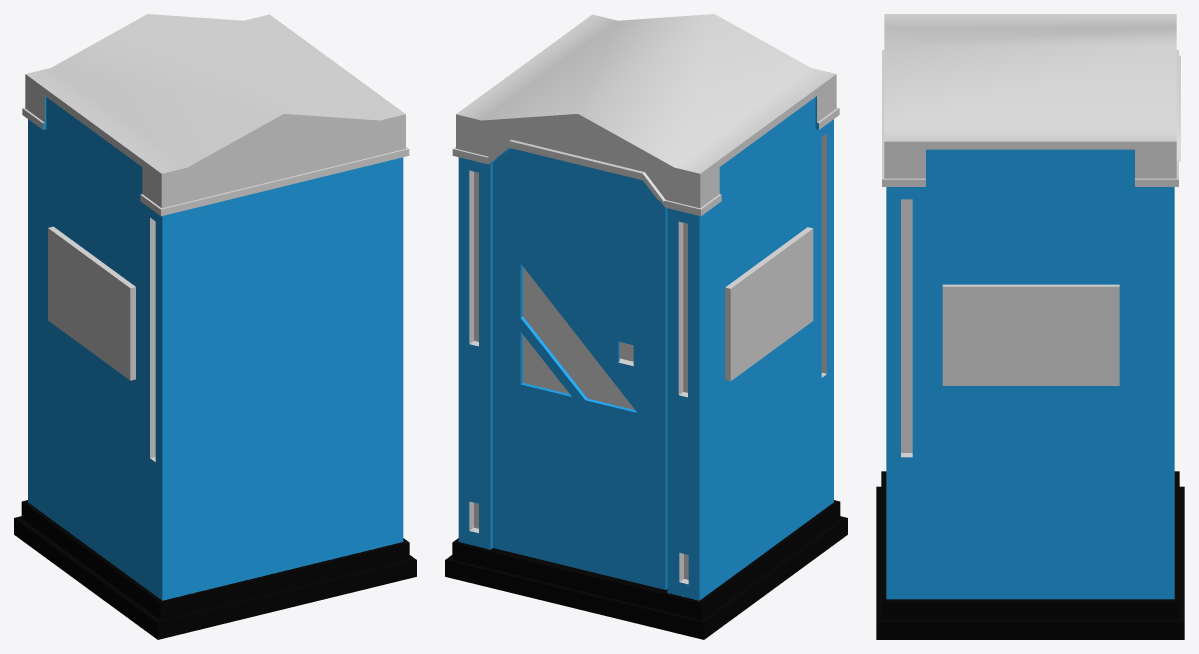
Rendered from portaPotty.glb.
The picture shows the model from 3 angles, left to right: view 1: azimuth 30°, elevation 25°; view 2: azimuth 150°, elevation 25°; view 3: azimuth 270°, elevation 25°; orthographic projection. The views are drawn at different scales.
Visible parts, largest first — view 1: sides_wc-blue_0, details_wx-white_0, bottom_wc-black_0; view 2: sides_wc-blue_0, details_wx-white_0, bottom_wc-black_0; view 3: sides_wc-blue_0, details_wx-white_0, bottom_wc-black_0.
Boxes of the visible parts, x1,y1,x2,y2 form: sides_wc-blue_0: (28, 96, 403, 600); details_wx-white_0: (22, 14, 409, 461); bottom_wc-black_0: (14, 500, 416, 639); sides_wc-blue_0: (458, 96, 833, 600); details_wx-white_0: (452, 14, 839, 584); bottom_wc-black_0: (445, 500, 847, 639); sides_wc-blue_0: (886, 149, 1174, 599); details_wx-white_0: (882, 14, 1180, 457); bottom_wc-black_0: (876, 471, 1184, 639).
Size of the model in its own units: 5.29 by 9.6 by 5.09.
